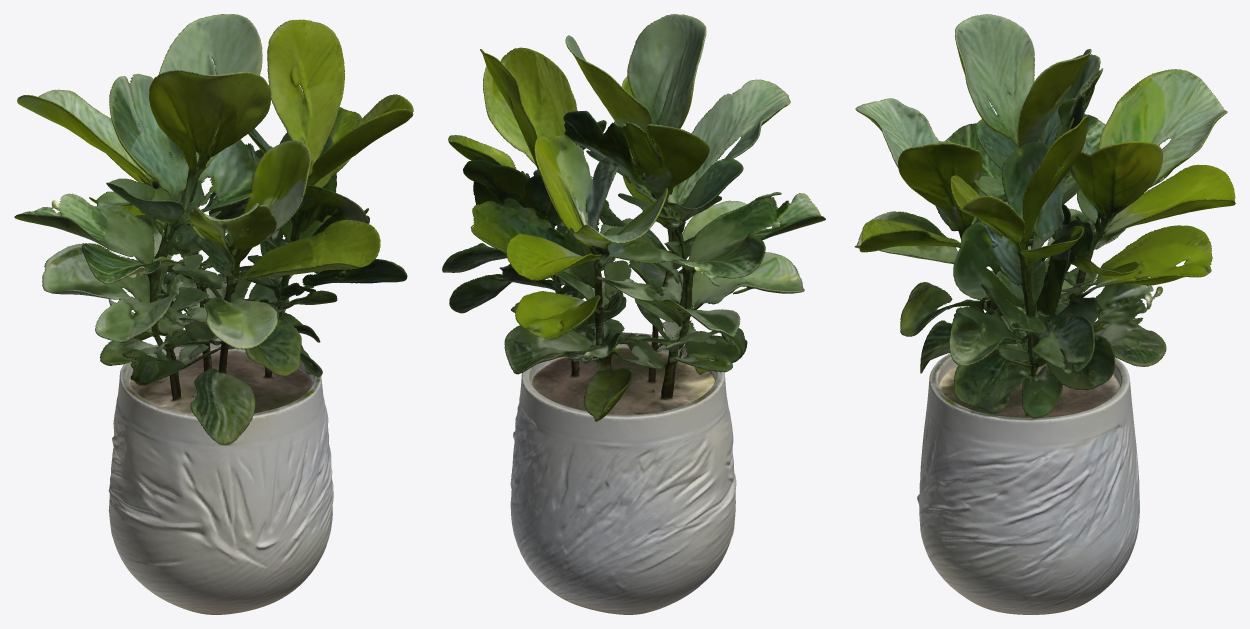
Rendered from 123_Original_11.glb.
The picture shows the model from 3 angles, left to right: view 1: azimuth 30°, elevation 25°; view 2: azimuth 150°, elevation 25°; view 3: azimuth 270°, elevation 25°; orthographic projection.
Visible parts, largest first — view 1: tripo_node_46913076-020e-4e55-84ae-40ffd768316f; view 2: tripo_node_46913076-020e-4e55-84ae-40ffd768316f; view 3: tripo_node_46913076-020e-4e55-84ae-40ffd768316f.
Boxes of the visible parts, x1,y1,x2,y2 form: tripo_node_46913076-020e-4e55-84ae-40ffd768316f: [14, 14, 413, 614]; tripo_node_46913076-020e-4e55-84ae-40ffd768316f: [442, 14, 825, 614]; tripo_node_46913076-020e-4e55-84ae-40ffd768316f: [854, 14, 1235, 614].
Bounding box in the file's own units: 0.6219 × 1 × 0.6211.
Materials: 1 (1 with a texture image).
